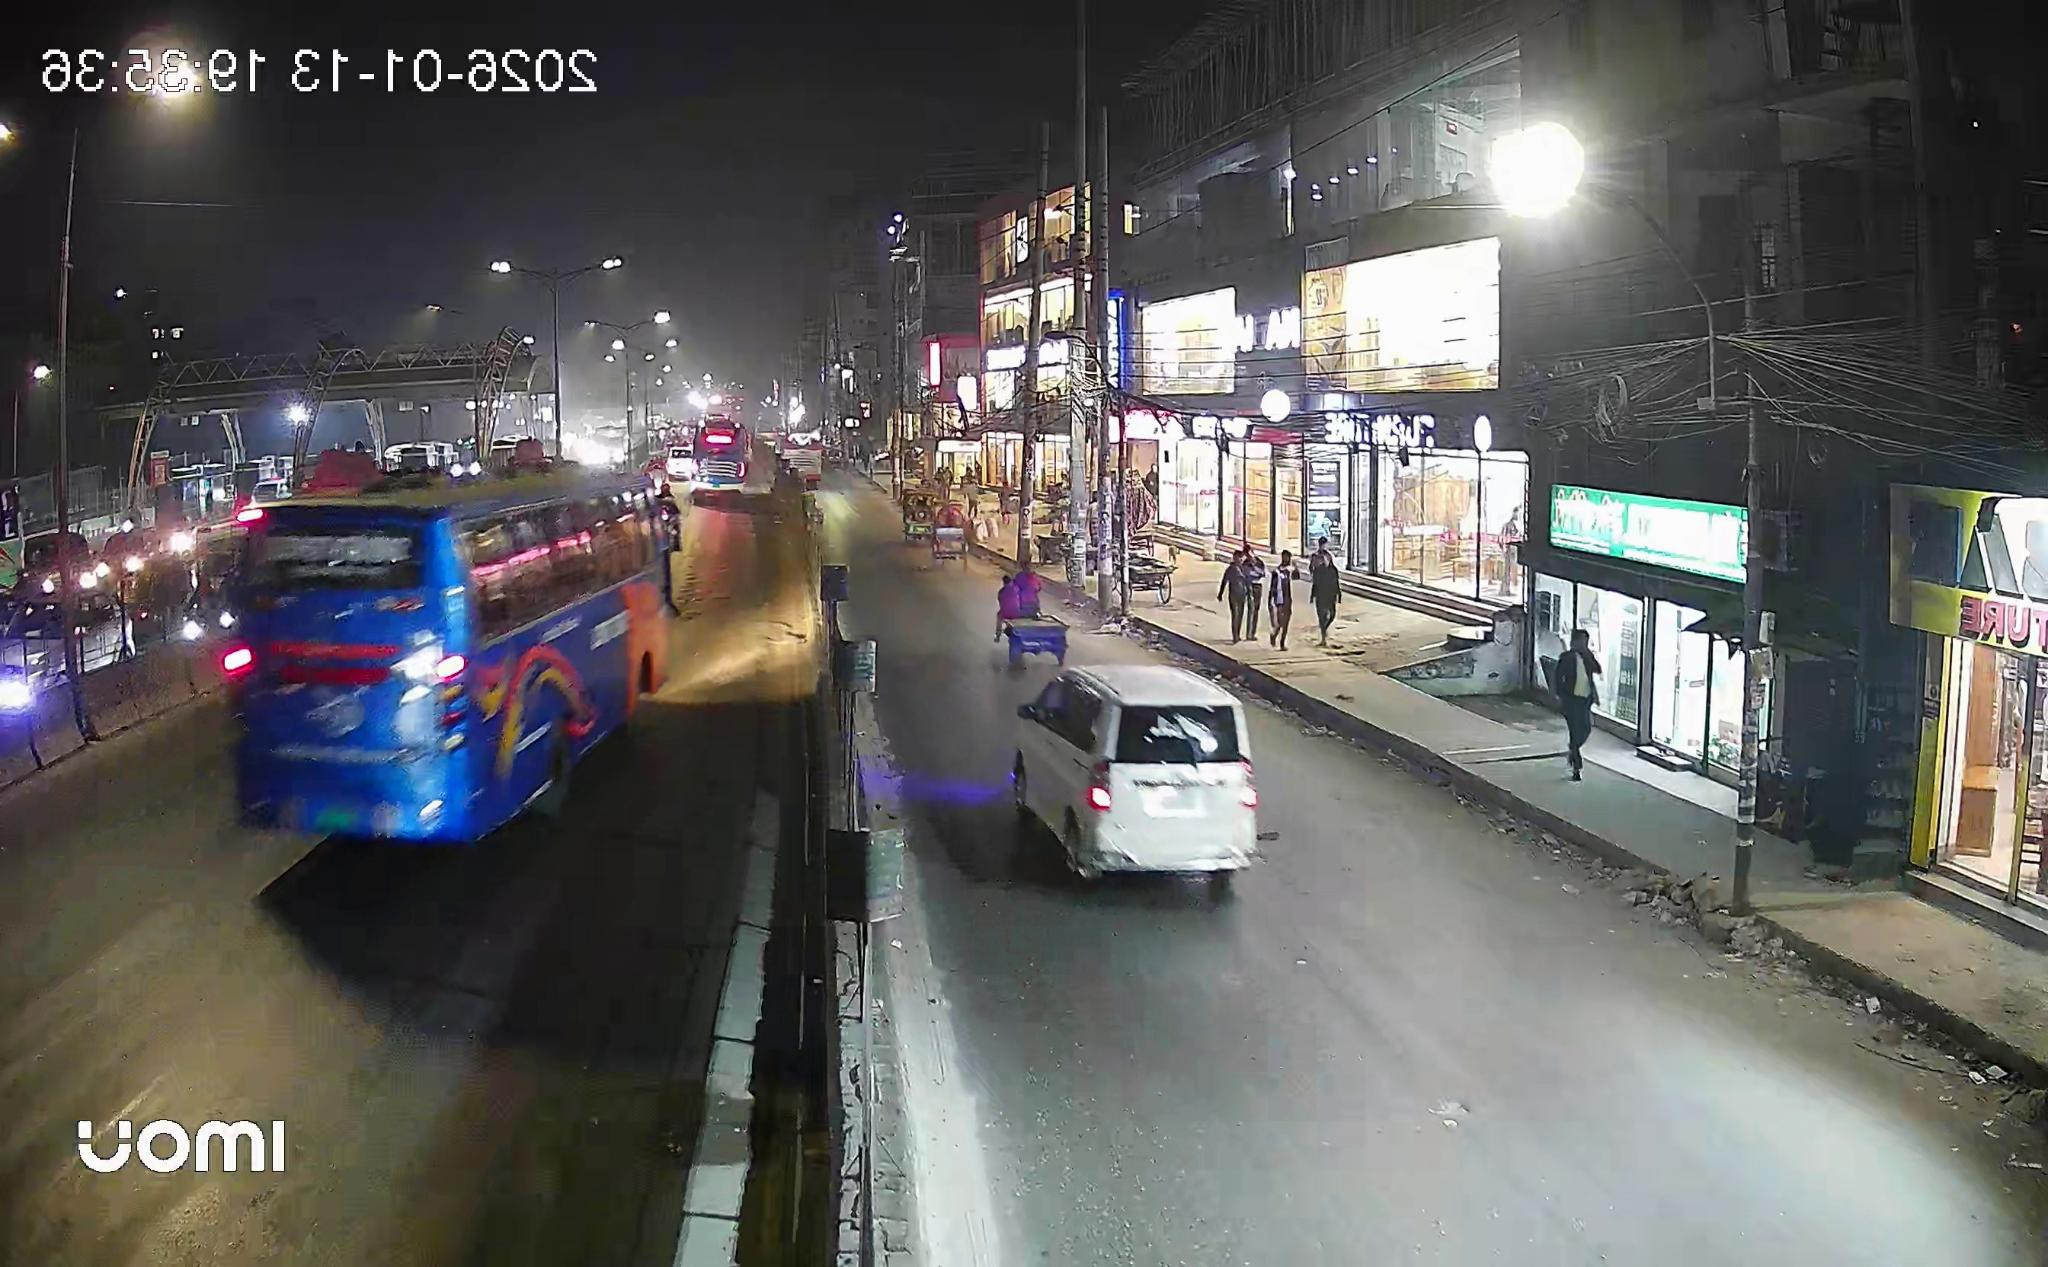Bus: (215, 474, 671, 841), (221, 484, 669, 843), (1012, 669, 1257, 873)
